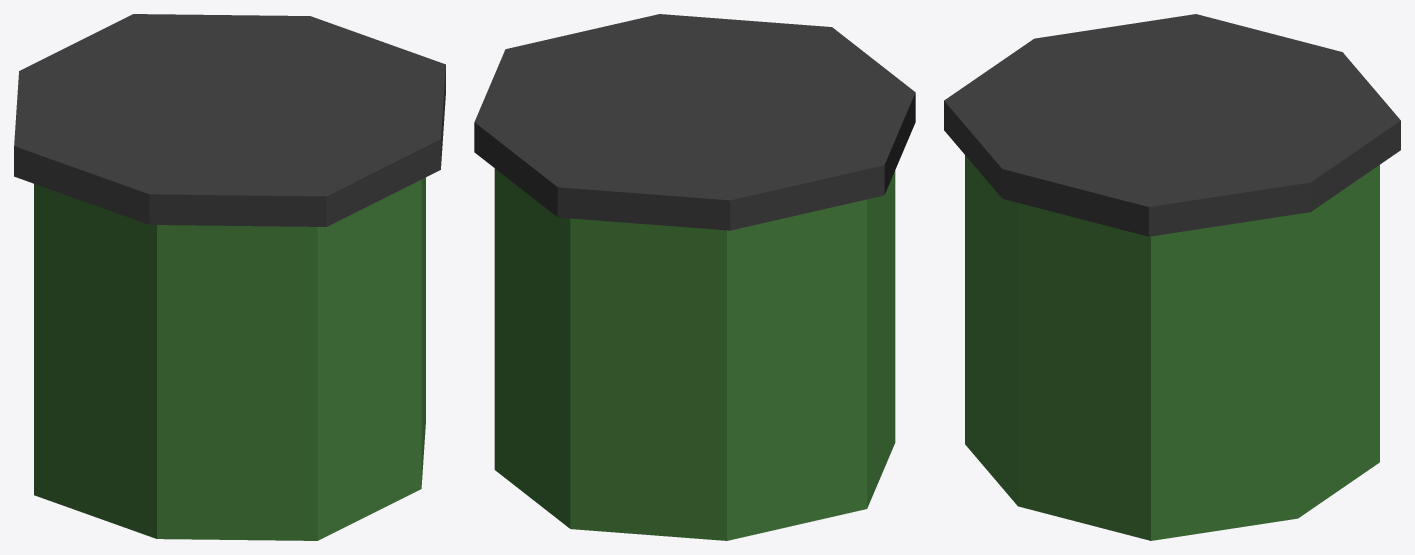
Rendered from Jar_5.fbx.
3 views of the same model, side by side, from view 1: azimuth 30°, elevation 25°; view 2: azimuth 150°, elevation 25°; view 3: azimuth 270°, elevation 25° (orthographic). The views are drawn at different scales.
Visible parts, largest first — view 1: Jar_5; view 2: Jar_5; view 3: Jar_5.
Boxes of the visible parts, x1=… form: Jar_5: x1=14, y1=14, x2=445, y2=540; Jar_5: x1=474, y1=14, x2=915, y2=540; Jar_5: x1=944, y1=14, x2=1400, y2=540.
Bounding box in the file's own units: 20.56 × 20.55 × 17.01.
